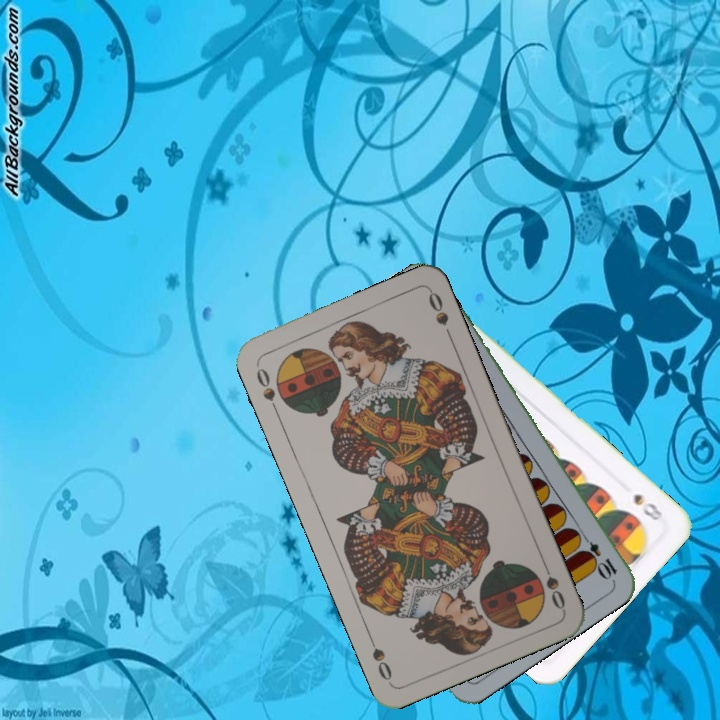E10: (575, 529, 620, 582)
S8: (629, 489, 670, 524)
SO: (537, 556, 568, 613), (251, 360, 282, 417)
